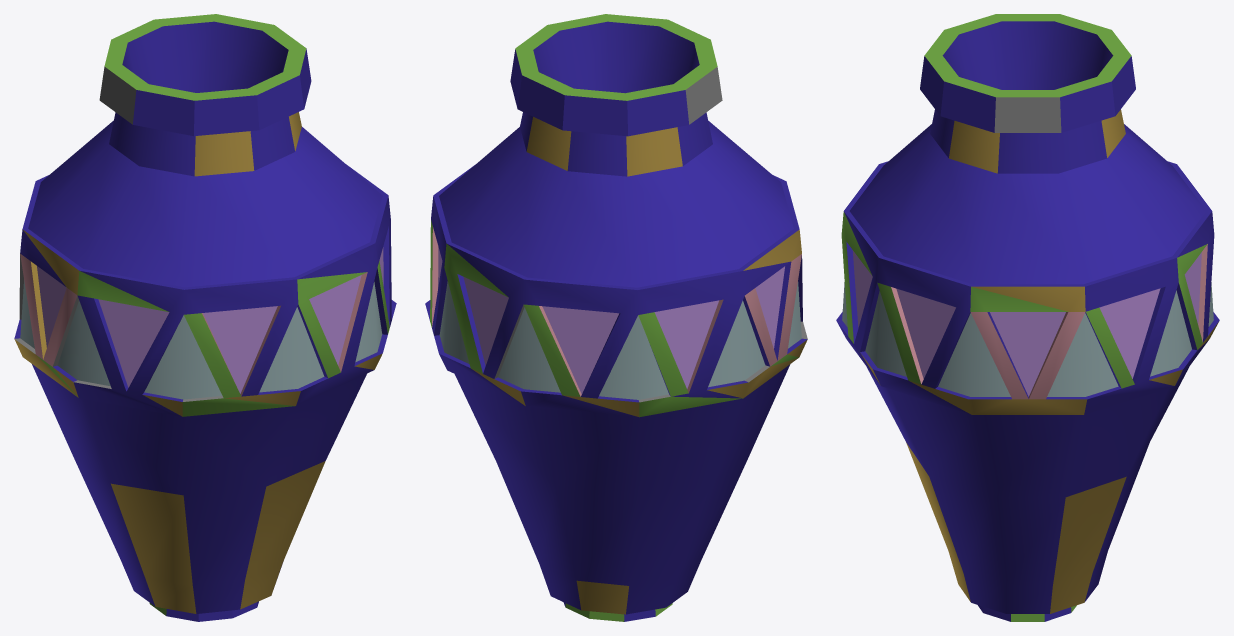
The model's file is jarron.fbx.
The picture shows the model from 3 angles, left to right: view 1: azimuth 30°, elevation 25°; view 2: azimuth 150°, elevation 25°; view 3: azimuth 270°, elevation 25°; orthographic projection.
Visible parts, largest first — view 1: Sphere002; view 2: Sphere002; view 3: Sphere002.
Boxes of the visible parts, x1,y1,x2,y2 form: Sphere002: (14,14,396,621); Sphere002: (425,14,807,621); Sphere002: (836,14,1219,621).
Bounding box in the file's own units: 647 × 1052 × 663.
